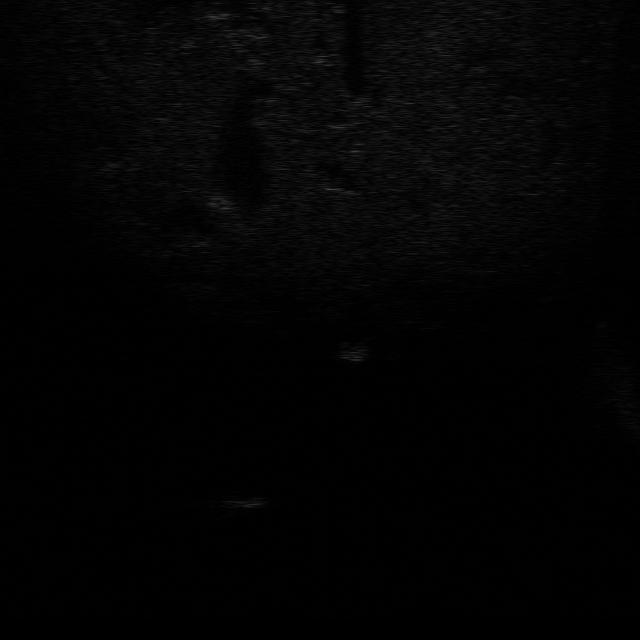cube: (215, 490, 273, 509)
square cage: (338, 336, 370, 365)
